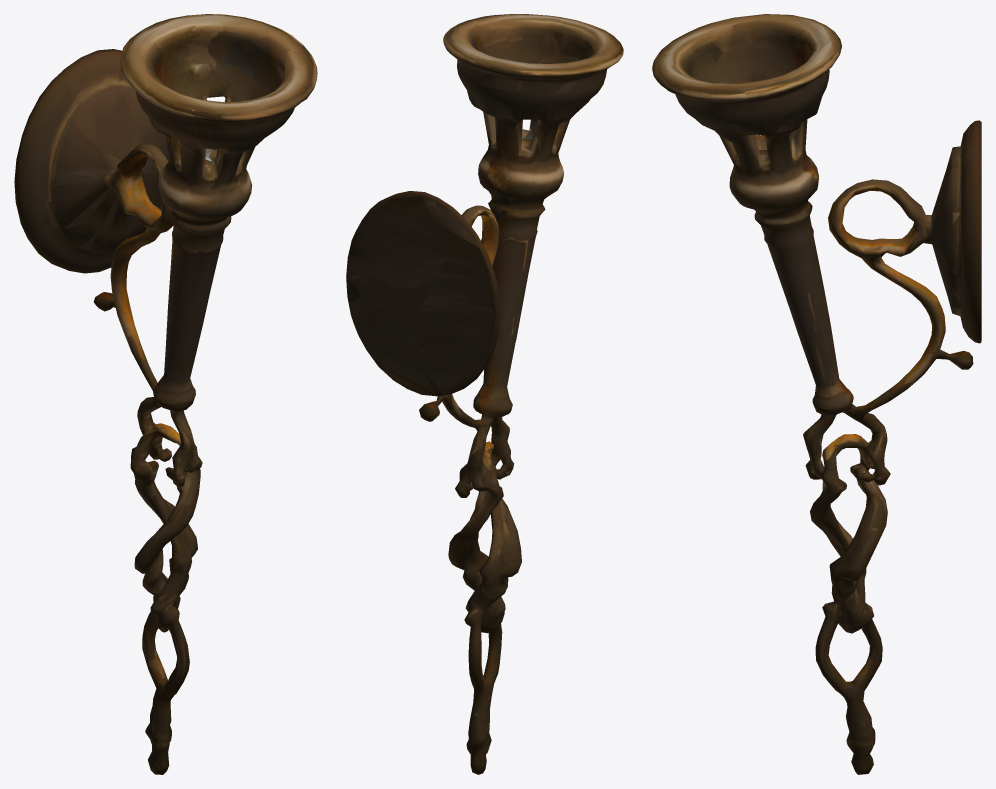
The model's file is walltorch2.glb.
The picture shows the model from 3 angles, left to right: view 1: azimuth 30°, elevation 25°; view 2: azimuth 150°, elevation 25°; view 3: azimuth 270°, elevation 25°; orthographic projection. The views are drawn at different scales.
Parts seen in each view (by area): view 1: tripo_node_80486ad0; view 2: tripo_node_80486ad0; view 3: tripo_node_80486ad0.
Boxes of the visible parts, <box> form: tripo_node_80486ad0: <box>14,14,317,774</box>; tripo_node_80486ad0: <box>346,14,623,774</box>; tripo_node_80486ad0: <box>652,14,981,774</box>.
Size of the model in its own units: 0.2473 by 1.06 by 0.4335.
1 material, 1 textured.
